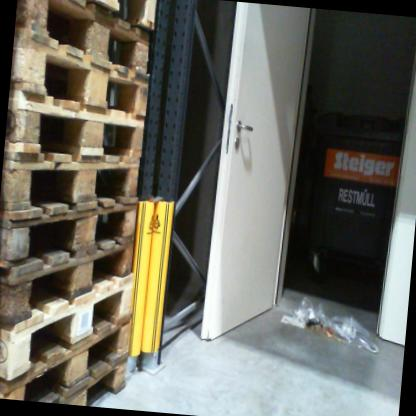pallet: (0, 263, 141, 393), (0, 220, 139, 336), (0, 180, 141, 294), (3, 79, 151, 183), (0, 140, 145, 239), (0, 309, 137, 408), (13, 0, 158, 84), (13, 29, 155, 110), (20, 0, 161, 36), (63, 349, 133, 410)
